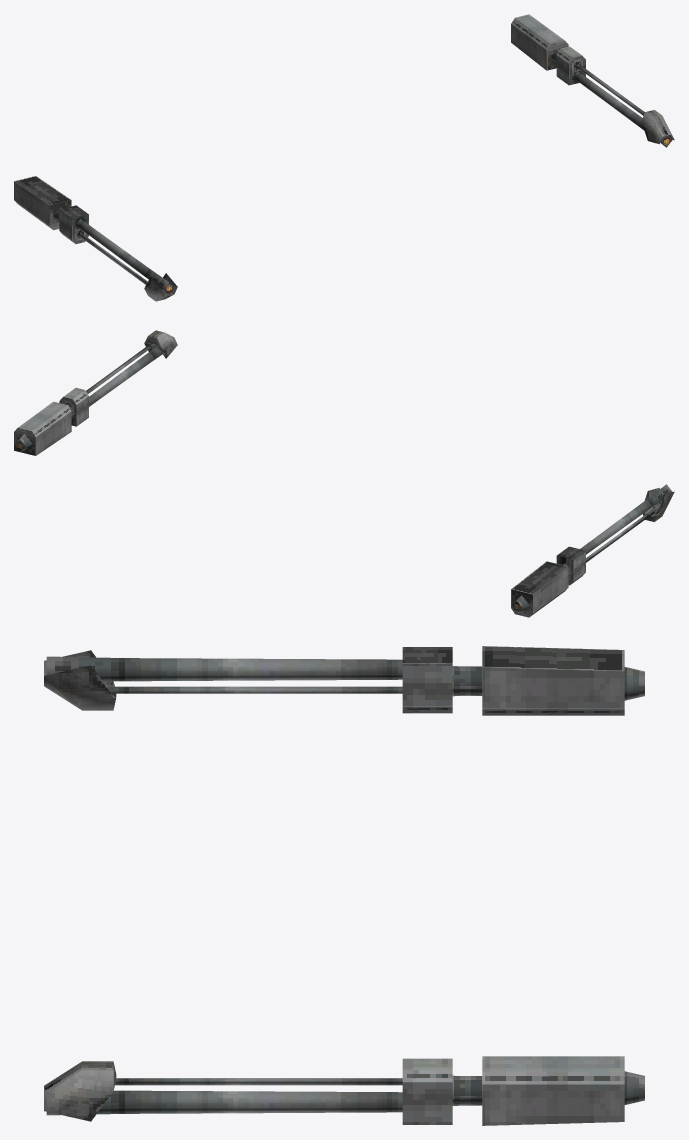
File: xwing_weapon1_neg_s06_l2.fbx
3 renders of one model, top to bottom at view 1: azimuth 30°, elevation 25°; view 2: azimuth 150°, elevation 25°; view 3: azimuth 270°, elevation 25°, orthographic. The views are drawn at different scales.
Parts seen in each view (by area): view 1: mesh_node; view 2: mesh_node; view 3: mesh_node.
Part boxes in pixels (x1,y1,x2,y2): mesh_node: (14,14,674,301); mesh_node: (14,330,674,617); mesh_node: (44,646,644,1125).
Size of the model in its own units: 12.87 by 1.55 by 6.45.
